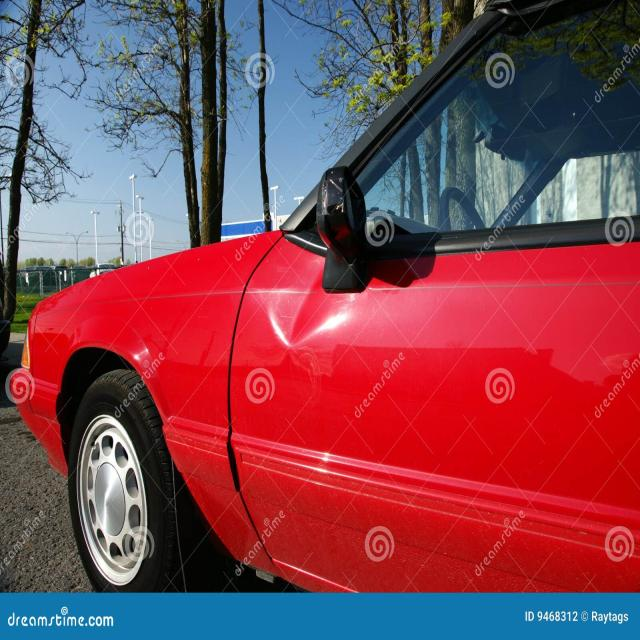dent: (259, 258, 365, 358)
